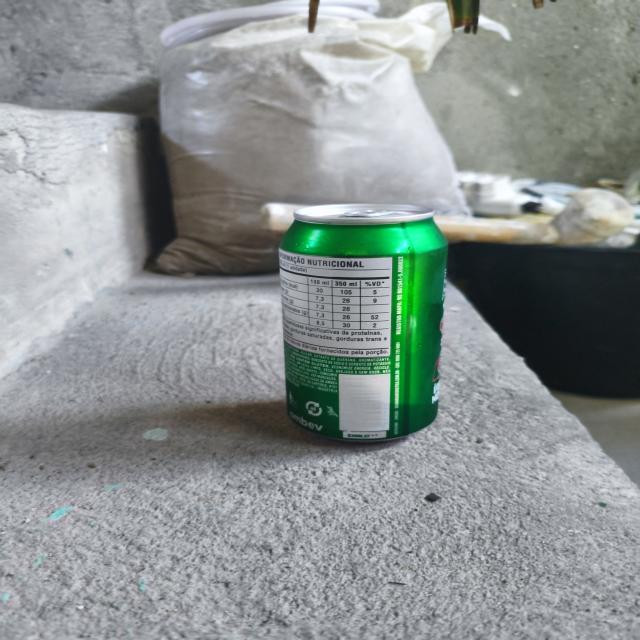Guarana: (268, 200, 453, 442)
